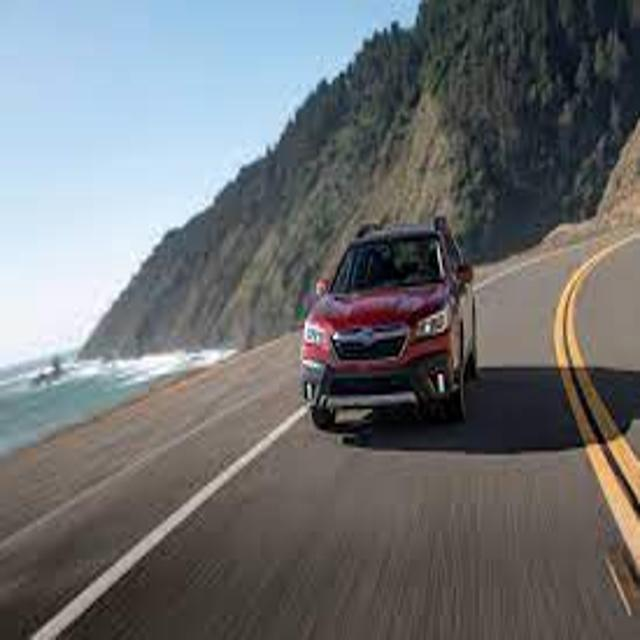car: (302, 217, 476, 431)
